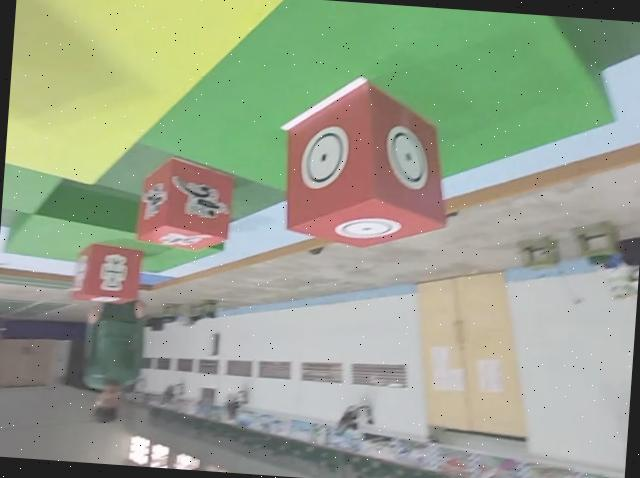R1: (131, 151, 238, 257)
R2 Real: (275, 71, 456, 256), (72, 241, 143, 310)
